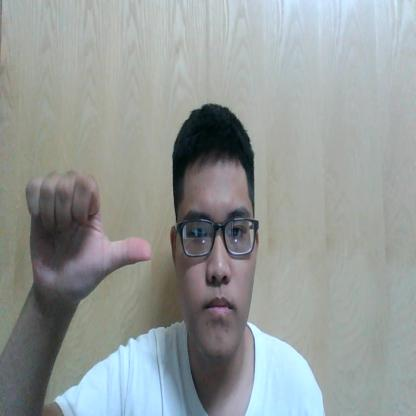left: (26, 169, 151, 306)
